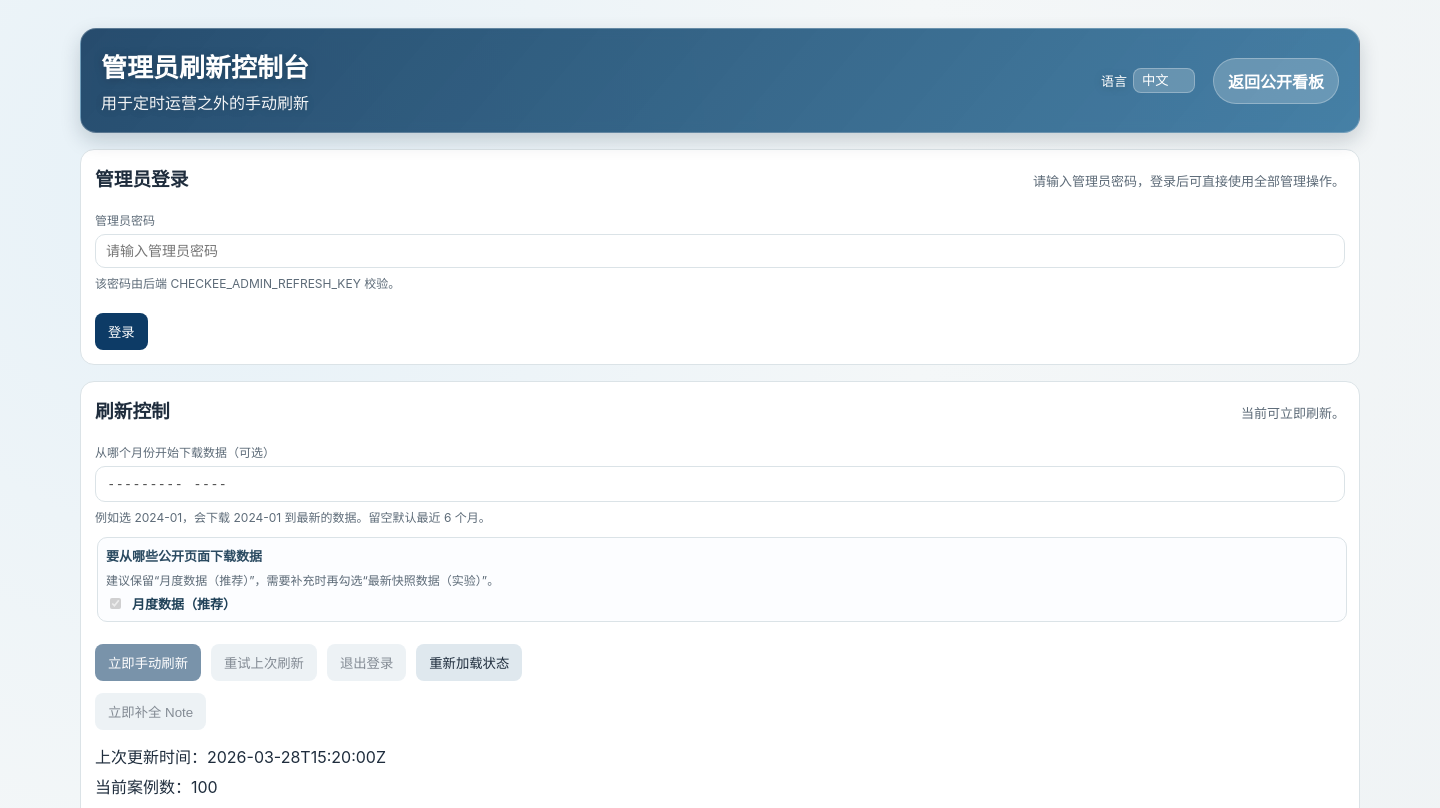
AdminPage › 登录后应展示本地化会话有效期
The width and height of the screenshot is (1440, 808).
In the password field with placeholder "请输入管理员密码": (720,251) [95, 234, 1345, 268], type "Zcb070920!"
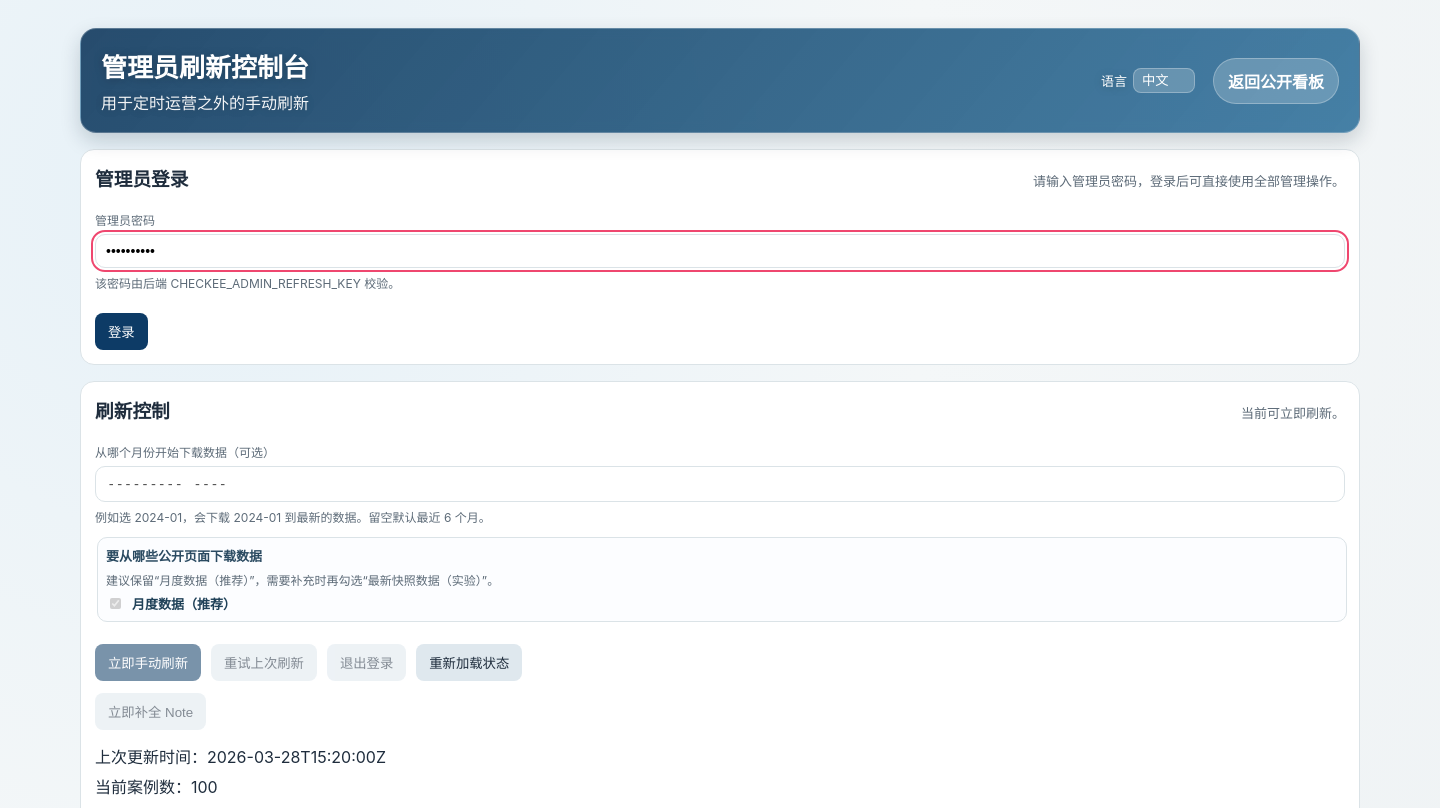
Click the button "登录": (121,332) [95, 313, 148, 350]
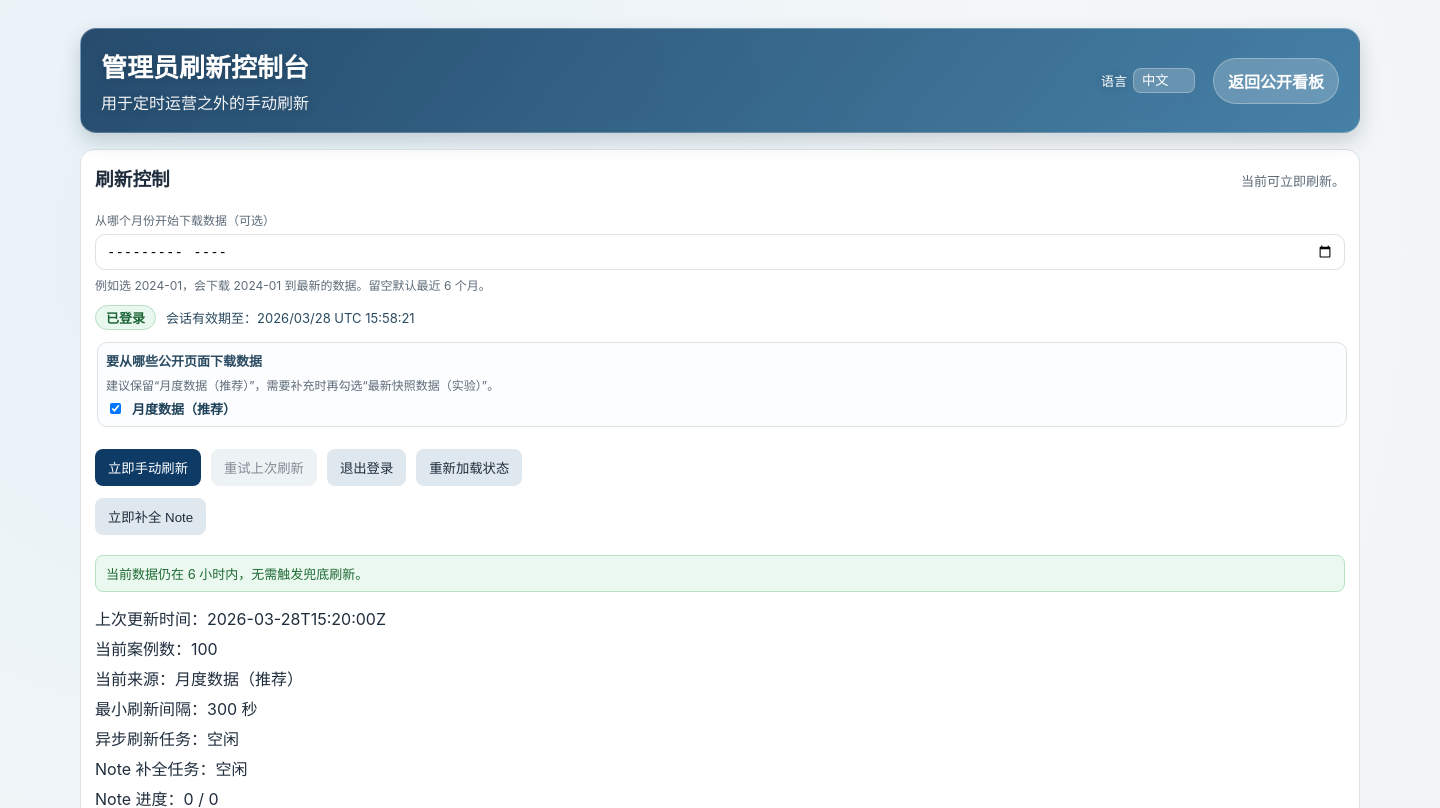
Now the text "已登录" is shown, box [95, 305, 156, 330]
